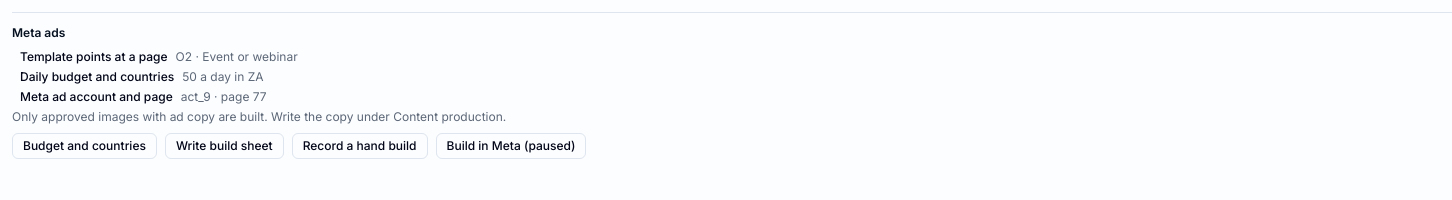
Test case: MetaBuildSection › shows the refusal when a build is already running
Click the button "Build in Meta (paused)": [511, 146] box 436,133 -> 586,159
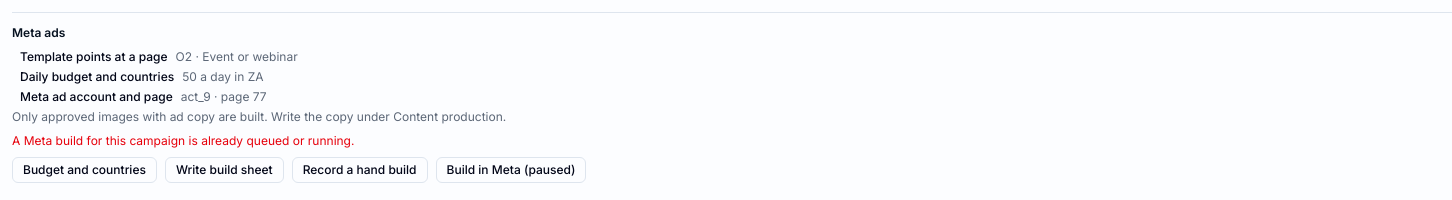
Expected: the message shows "already queued or running", 12,133 -> 354,148
